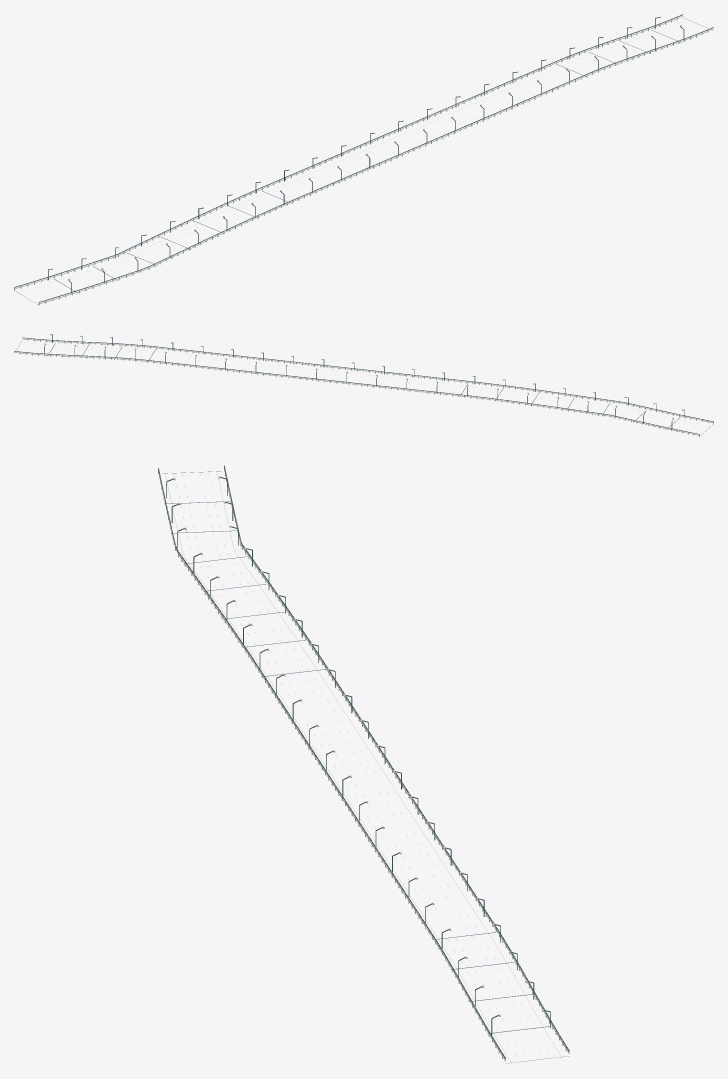
File: transport-0--2.glb
3 views of the same model, one above another, from view 1: azimuth 30°, elevation 25°; view 2: azimuth 150°, elevation 25°; view 3: azimuth 270°, elevation 25° (orthographic). The views are drawn at different scales.
Parts seen in each view (by area): view 1: RiverBridge_Details_yinghua-bridge; view 2: RiverBridge_Details_yinghua-bridge; view 3: RiverBridge_Details_yinghua-bridge.
Part boxes in pixels (left/top/right/bottom): RiverBridge_Details_yinghua-bridge: left=14, top=14, right=713, bottom=305; RiverBridge_Details_yinghua-bridge: left=14, top=334, right=713, bottom=436; RiverBridge_Details_yinghua-bridge: left=158, top=465, right=569, bottom=1064.
Bounding box in the file's own units: 8.91 × 0.241 × 2.62.
